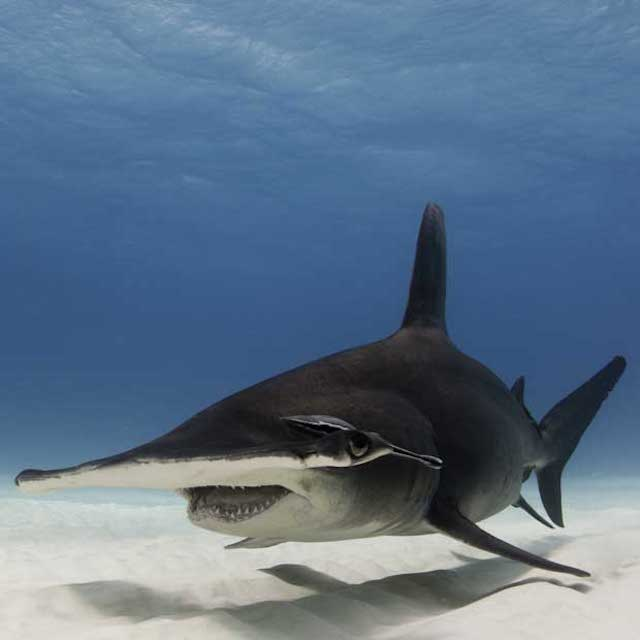hammerhead: (1, 347, 419, 565)
